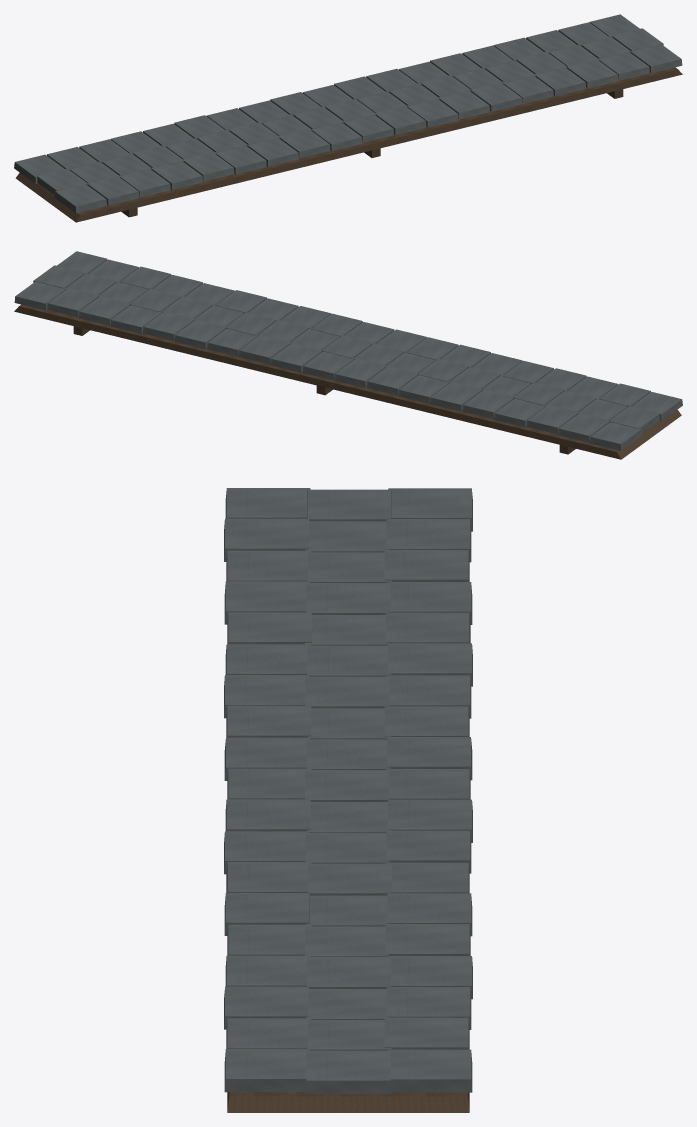
Rendered from village__05__expanded_warehouse__roof_left__section_06.glb.
The picture shows the model from 3 angles, top to bottom: view 1: azimuth 30°, elevation 25°; view 2: azimuth 150°, elevation 25°; view 3: azimuth 270°, elevation 25°; orthographic projection. The views are drawn at different scales.
Parts seen in each view (by area): view 1: RoofLeft_Course_06; view 2: RoofLeft_Course_06; view 3: RoofLeft_Course_06.
Boxes of the visible parts, <box> form: RoofLeft_Course_06: <box>14,14,682,222</box>; RoofLeft_Course_06: <box>14,251,682,459</box>; RoofLeft_Course_06: <box>224,488,472,1112</box>.
Bounding box in the file's own units: 6.96 × 0.2995 × 1.23.
Materials: 2 (2 with a texture image).
